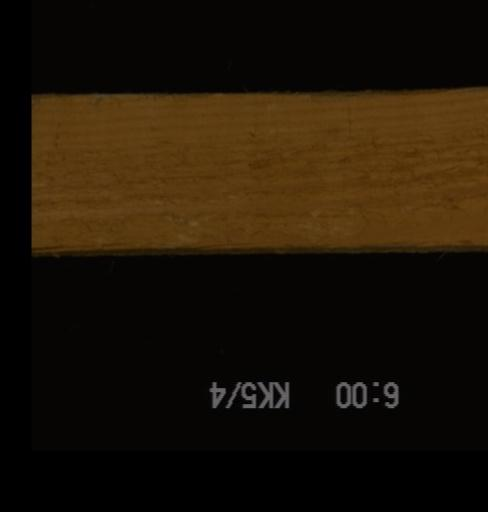split: (31, 238, 130, 253), (186, 238, 273, 251)
